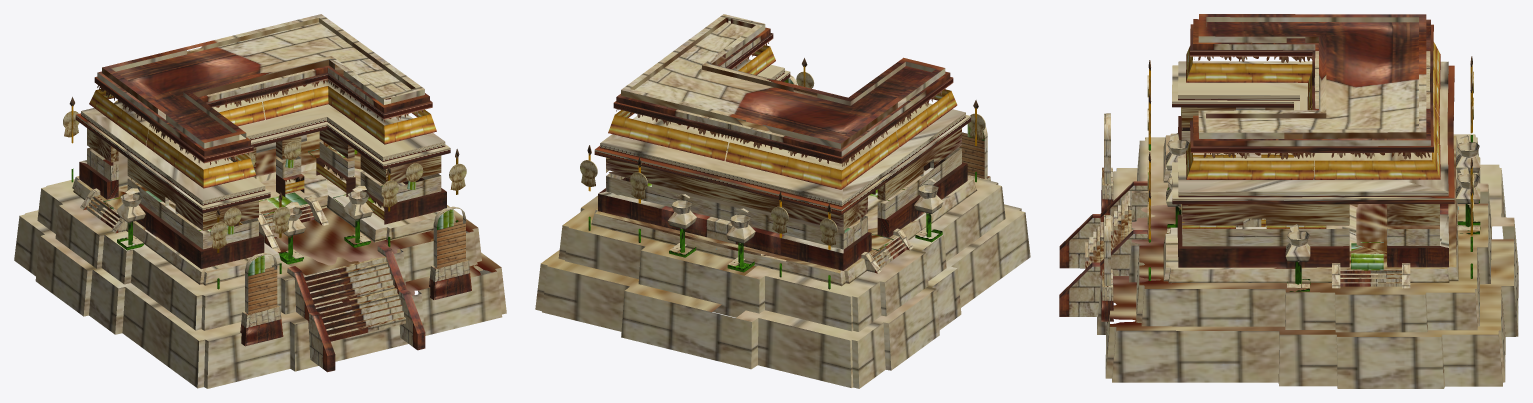
The model's file is barracks_02.dae.
3 views of the same model, side by side, from view 1: azimuth 30°, elevation 25°; view 2: azimuth 150°, elevation 25°; view 3: azimuth 270°, elevation 25° (orthographic). The views are drawn at different scales.
Parts seen in each view (by area): view 1: barracks_02; view 2: barracks_02; view 3: barracks_02.
Part boxes in pixels (box(x1,y1,x2,y2)): barracks_02: box(14, 14, 506, 388); barracks_02: box(535, 14, 1030, 388); barracks_02: box(1059, 14, 1518, 388).
Bounding box in the file's own units: 25.23 × 27.34 × 14.91.
